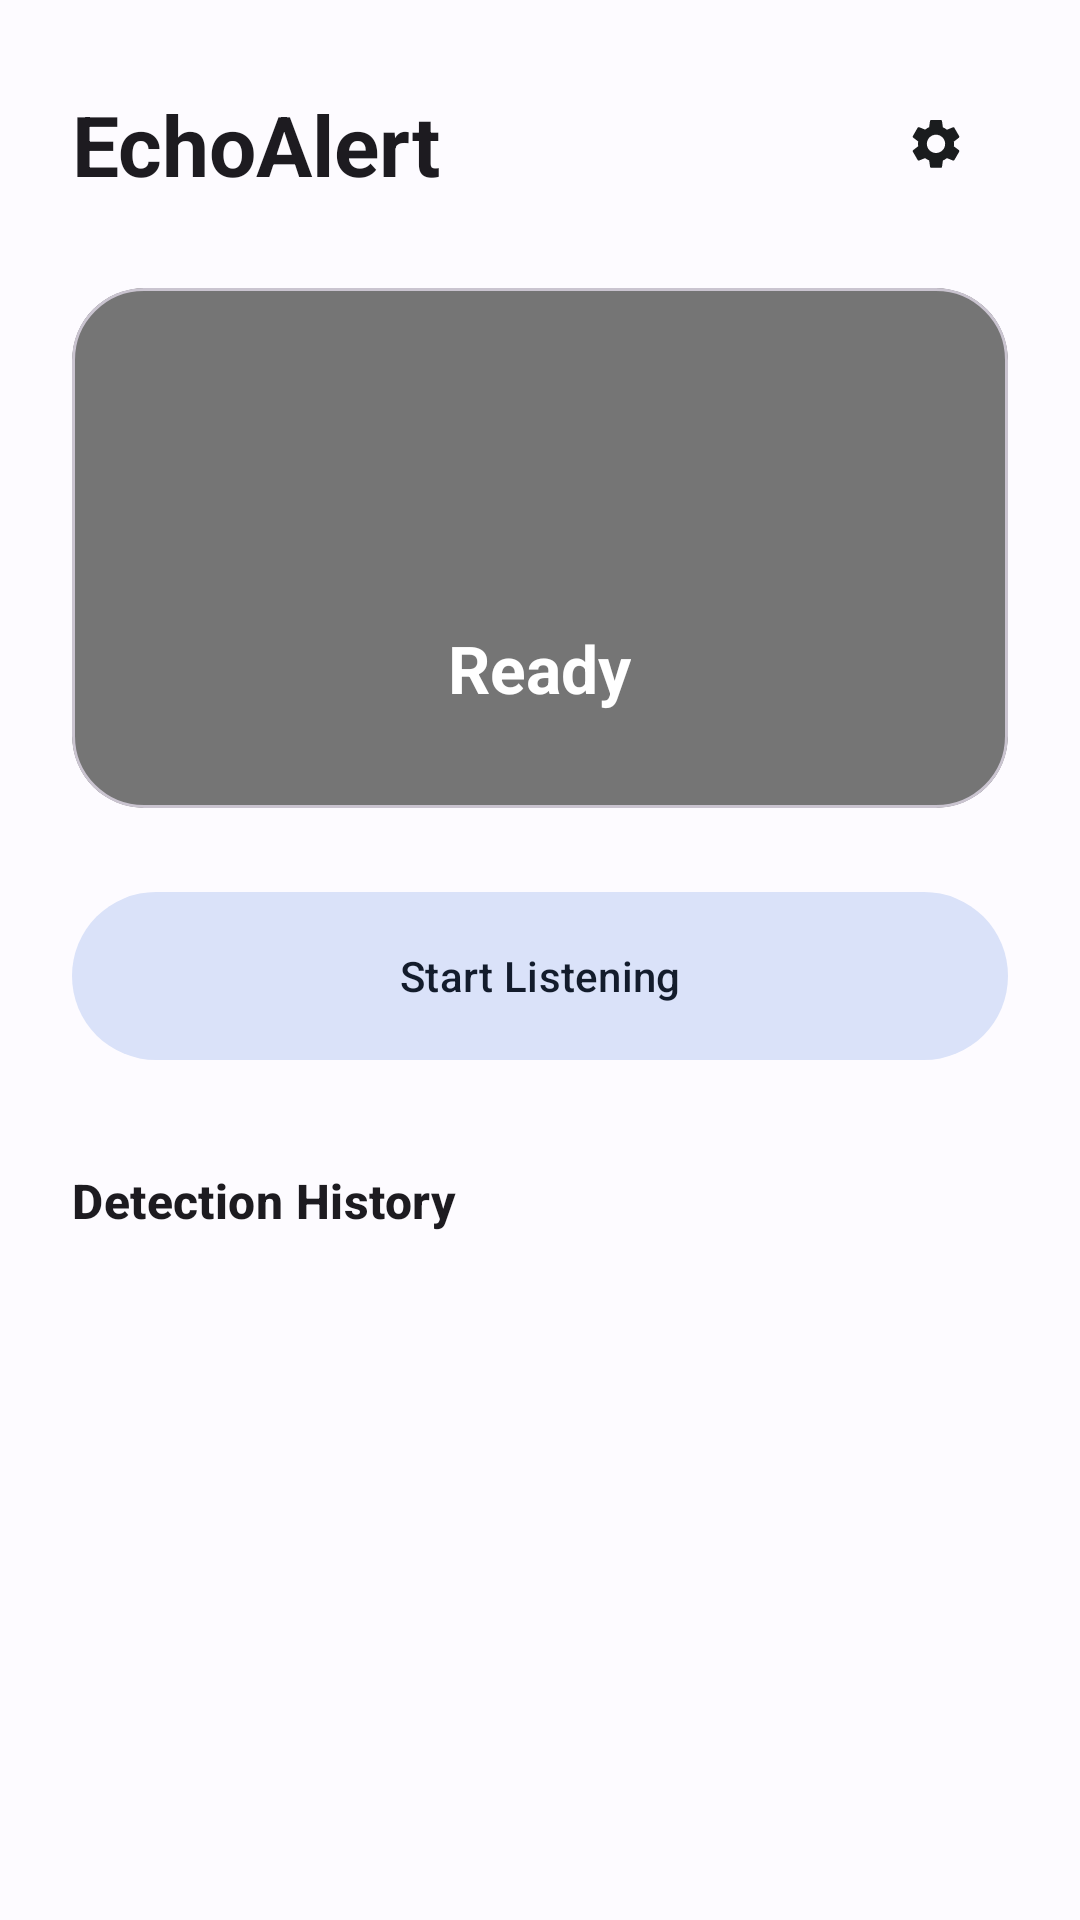

Screen size 1080px×1920px. Icon name, then its box in pixels as (x1, y1, x2, y2):
settings: (912, 120, 960, 168)
